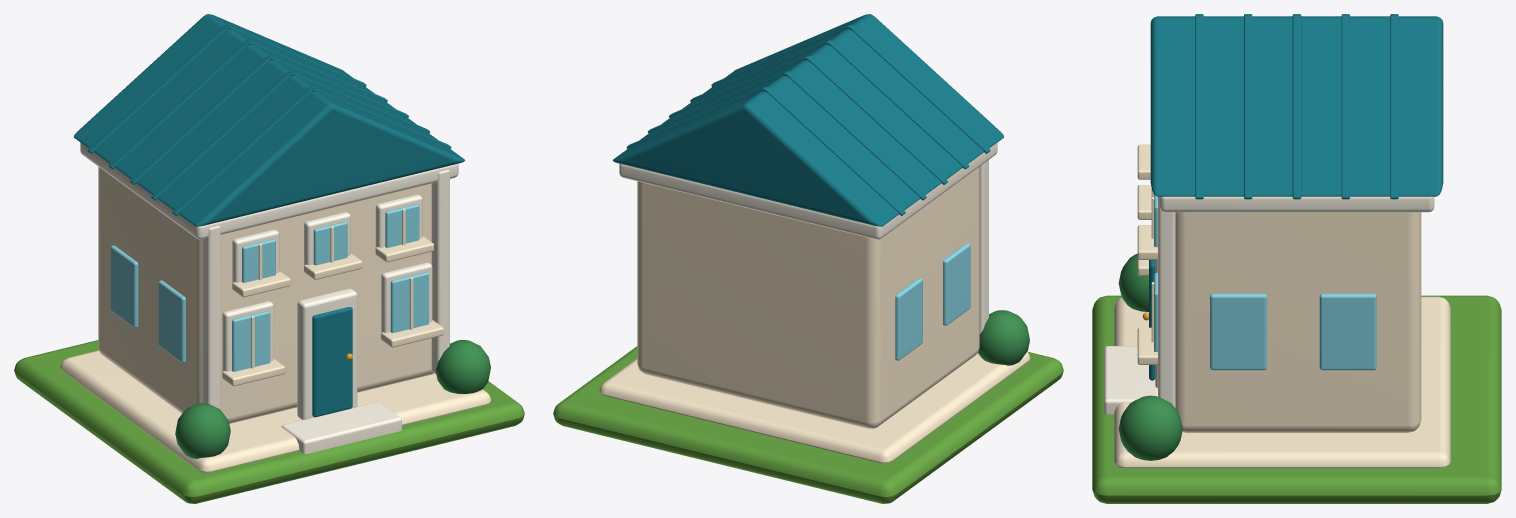
File: house.fbx
The picture shows the model from 3 angles, left to right: view 1: azimuth 30°, elevation 25°; view 2: azimuth 150°, elevation 25°; view 3: azimuth 270°, elevation 25°; orthographic projection. The views are drawn at different scales.
Parts seen in each view (by area): view 1: Roof, Plaster facade, Raised garden plot, Paved foundation, Cornice, Entrance, Entrance step, Door frame, Corner trim, Corner trim.001, Clipped shrub, Clipped shrub.001 (+22 smaller); view 2: Plaster facade, Roof, Raised garden plot, Paved foundation, Cornice, Clipped shrub, Side window.001, Side window, Corner trim, Roof seam.003, Roof seam.004, Roof seam.001 (+2 smaller); view 3: Roof, Plaster facade, Raised garden plot, Paved foundation, Cornice, Side window.003, Side window.002, Corner trim.001, Clipped shrub.001, Entrance step, Roof seam.007, Roof seam.005 (+8 smaller).
Boxes of the visible parts, <box> form: Roof: <box>74,14,464,226</box>; Plaster facade: <box>98,167,433,423</box>; Raised garden plot: <box>14,340,524,503</box>; Paved foundation: <box>60,350,491,472</box>; Cornice: <box>80,142,458,239</box>; Entrance: <box>312,307,352,417</box>; Entrance step: <box>281,401,401,454</box>; Door frame: <box>297,288,357,419</box>; Corner trim: <box>202,226,220,409</box>; Corner trim.001: <box>431,170,449,374</box>; Clipped shrub: <box>175,403,230,458</box>; Clipped shrub.001: <box>435,340,490,393</box>; Plaster facade: <box>637,167,979,428</box>; Roof: <box>613,14,1003,226</box>; Raised garden plot: <box>553,346,1063,503</box>; Paved foundation: <box>599,351,1030,463</box>; Cornice: <box>619,142,997,239</box>; Clipped shrub: <box>977,310,1029,365</box>; Side window.001: <box>895,278,922,360</box>; Side window: <box>943,243,970,325</box>; Corner trim: <box>979,160,988,333</box>; Roof seam.003: <box>785,71,926,200</box>; Roof seam.004: <box>764,87,905,215</box>; Roof seam.001: <box>828,40,968,169</box>; Roof: <box>1150,16,1443,196</box>; Plaster facade: <box>1175,212,1421,432</box>; Raised garden plot: <box>1092,295,1501,503</box>; Paved foundation: <box>1114,296,1450,468</box>; Cornice: <box>1159,196,1434,212</box>; Side window.003: <box>1319,293,1376,370</box>; Side window.002: <box>1210,293,1266,370</box>; Corner trim.001: <box>1158,196,1175,408</box>; Clipped shrub.001: <box>1118,395,1182,460</box>; Entrance step: <box>1104,346,1157,414</box>; Roof seam.007: <box>1292,15,1301,199</box>; Roof seam.005: <box>1195,15,1203,199</box>.
Size of the model in its own units: 3.1 by 3.01 by 2.8.
